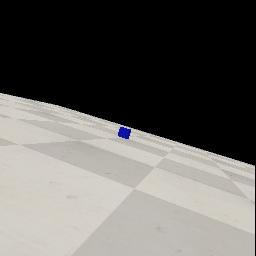box: (118, 127, 131, 139)
